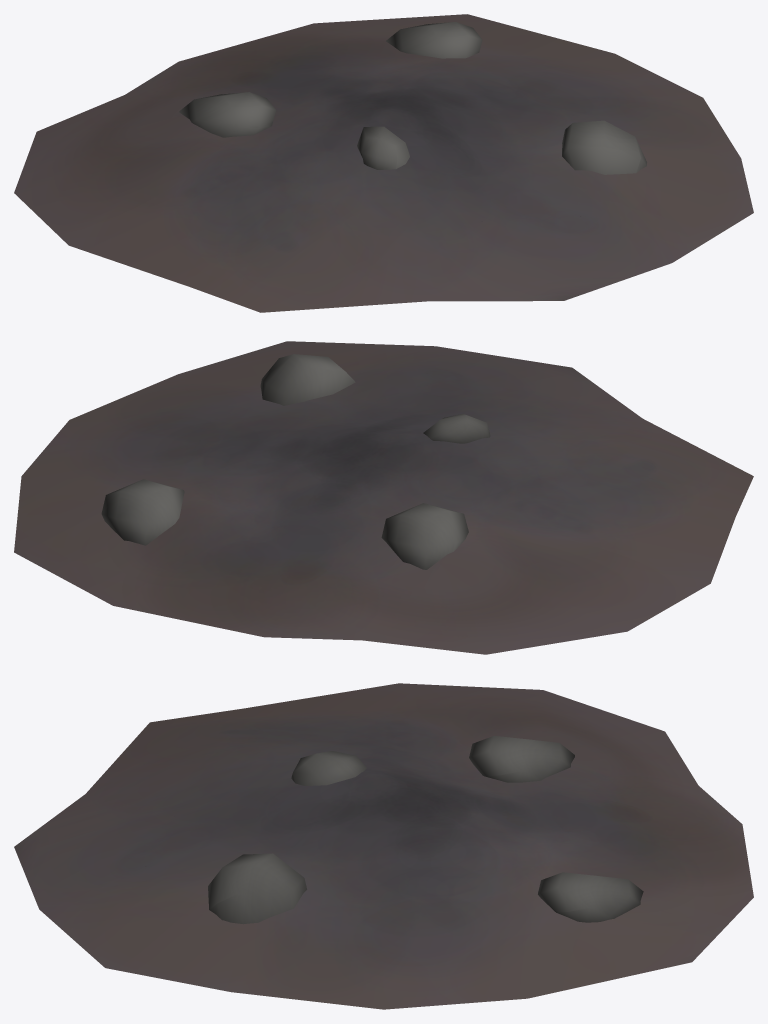
Rendered from burrow.fbx.
The picture shows the model from 3 angles, top to bottom: view 1: azimuth 30°, elevation 25°; view 2: azimuth 150°, elevation 25°; view 3: azimuth 270°, elevation 25°; orthographic projection. The views are drawn at different scales.
Parts seen in each view (by area): view 1: Plane, Stone_02, Stone_01.001, Stone_01.002, Stone_01; view 2: Plane, Stone_01.001, Stone_01.002, Stone_02, Stone_01; view 3: Plane, Stone_02, Stone_01.002, Stone_01.001, Stone_01.
Boxes of the visible parts, <box> form: Plane: <box>14,14,753,312</box>; Stone_02: <box>562,120,646,174</box>; Stone_01.001: <box>179,92,276,137</box>; Stone_01.002: <box>386,22,482,58</box>; Stone_01: <box>357,126,409,169</box>; Plane: <box>14,341,753,654</box>; Stone_01.001: <box>381,503,468,569</box>; Stone_01.002: <box>101,479,184,545</box>; Stone_02: <box>260,354,355,405</box>; Stone_01: <box>423,414,490,443</box>; Plane: <box>14,683,753,1009</box>; Stone_02: <box>208,853,306,924</box>; Stone_01.002: <box>538,872,643,922</box>; Stone_01.001: <box>469,736,574,782</box>; Stone_01: <box>291,751,366,785</box>.
Bounding box in the file's own units: 207 × 28.35 × 199.
3 materials, 3 textured.
